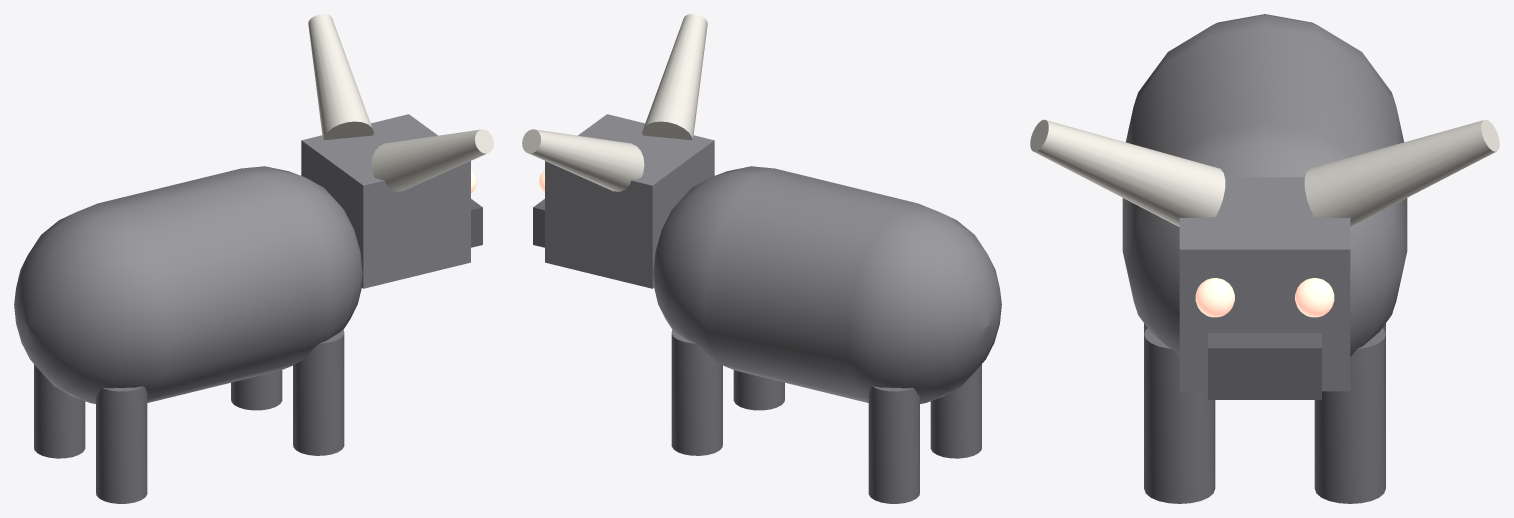
Rendered from trau_dien.glb.
3 renders of one model, left to right at view 1: azimuth 30°, elevation 25°; view 2: azimuth 150°, elevation 25°; view 3: azimuth 270°, elevation 25°, orthographic. The views are drawn at different scales.
Parts seen in each view (by area): view 1: Cap1, Box1, Cyl4, Cyl6, Cyl2, Cyl1, Cyl3, Cyl5, Box2; view 2: Cap1, Box1, Cyl3, Cyl5, Cyl1, Cyl2, Cyl4, Cyl6, Box2; view 3: Cap1, Box1, Cyl1, Cyl2, Cyl5, Cyl6, Box2, Sph1, Sph2.
Boxes of the visible parts, x1,y1,x2,y2 form: Cap1: [14, 166, 362, 403]; Box1: [301, 114, 470, 288]; Cyl4: [96, 386, 147, 503]; Cyl6: [293, 329, 344, 455]; Cyl2: [308, 14, 373, 140]; Cyl1: [371, 129, 493, 191]; Cyl3: [34, 364, 85, 458]; Cyl5: [231, 370, 282, 410]; Box2: [471, 199, 482, 247]; Cap1: [653, 166, 1001, 403]; Box1: [545, 114, 714, 288]; Cyl3: [868, 386, 919, 503]; Cyl5: [671, 329, 722, 455]; Cyl1: [642, 14, 707, 140]; Cyl2: [522, 129, 644, 191]; Cyl4: [930, 364, 981, 458]; Cyl6: [733, 370, 784, 410]; Box2: [533, 199, 544, 247]; Cap1: [1122, 14, 1407, 356]; Box1: [1179, 177, 1350, 391]; Cyl1: [1030, 119, 1225, 226]; Cyl2: [1304, 119, 1499, 226]; Cyl5: [1314, 328, 1385, 503]; Cyl6: [1144, 328, 1215, 503]; Box2: [1208, 333, 1321, 399]; Sph1: [1195, 278, 1234, 317]; Sph2: [1295, 278, 1334, 317].
Size of the model in its own units: 0.485 by 0.3442 by 0.3302.
